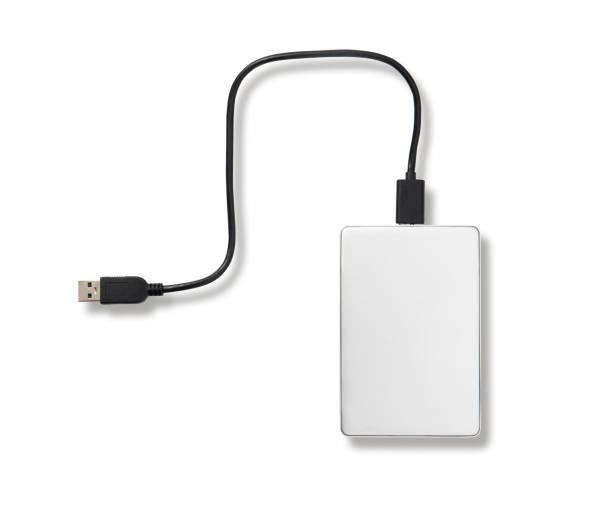HDD: (340, 94, 482, 439)
